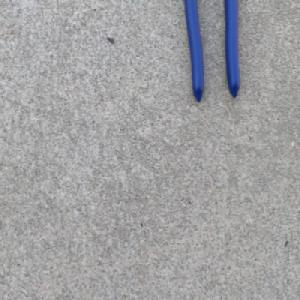Pliers: (183, 0, 241, 103)
